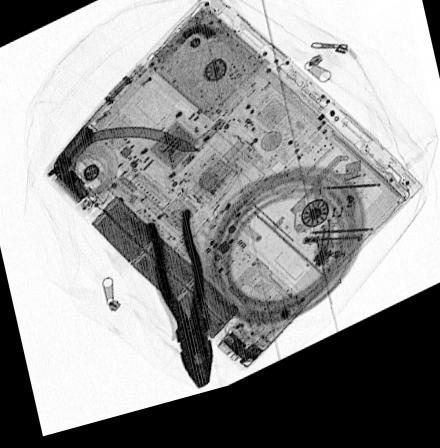Pliers: (141, 214, 214, 400)
